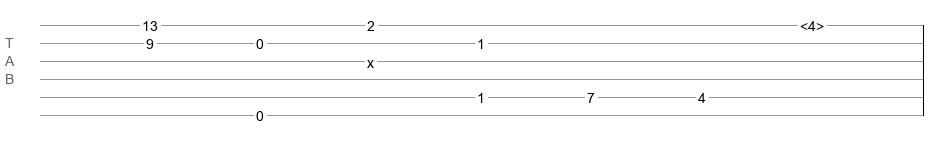0: (256, 36, 264, 46), (256, 108, 264, 118)
1: (477, 90, 485, 100), (477, 36, 485, 46)
13: (142, 18, 158, 28)
2: (367, 18, 375, 28)
4: (698, 90, 706, 100)
7: (587, 90, 595, 100)
9: (146, 36, 154, 46)
harmonic: (800, 18, 824, 28)
x: (367, 55, 374, 63)
